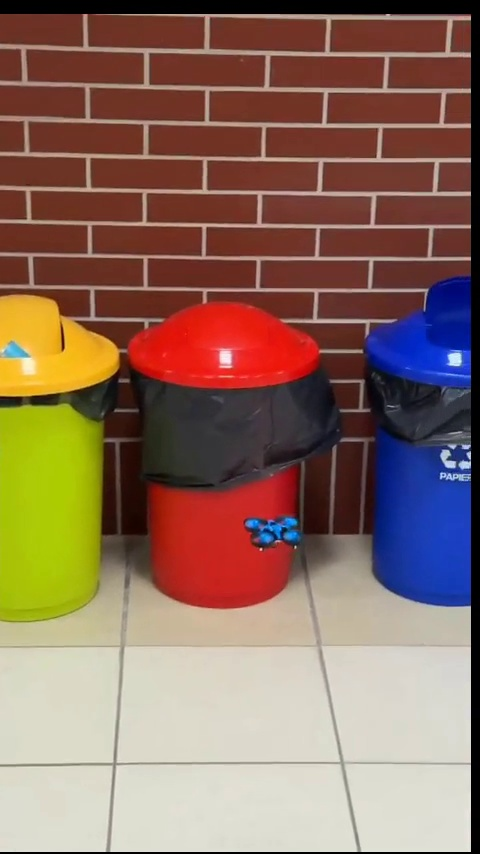drone: (242, 515, 305, 550)
